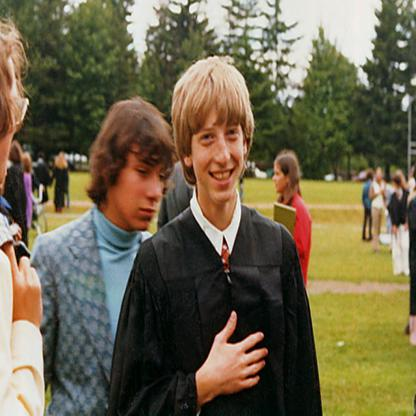face: (193, 103, 245, 202), (110, 145, 166, 232), (1, 58, 22, 187), (273, 164, 287, 193), (394, 181, 398, 187), (372, 171, 375, 178), (379, 174, 382, 180), (412, 171, 414, 177)
